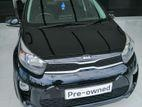car: (9, 0, 139, 107)
